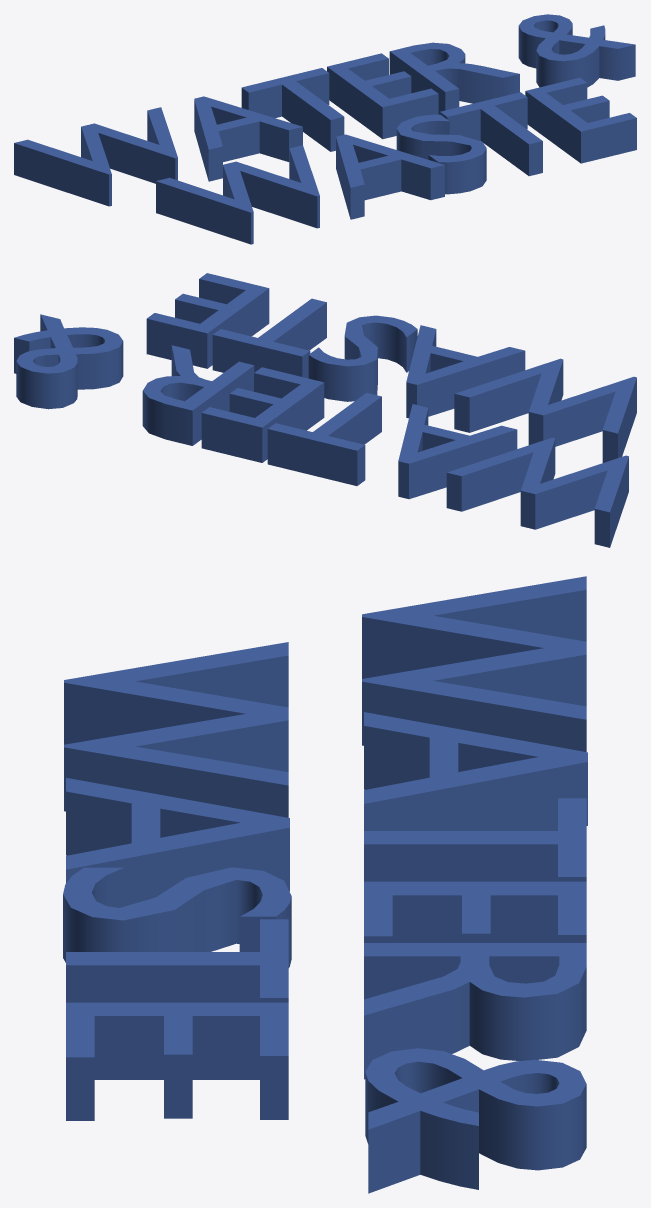
File: Water & Waste.fbx
3 renders of one model, top to bottom at view 1: azimuth 30°, elevation 25°; view 2: azimuth 150°, elevation 25°; view 3: azimuth 270°, elevation 25°, orthographic. The views are drawn at different scales.
Visible parts, largest first — view 1: Water & Waste; view 2: Water & Waste; view 3: Water & Waste.
Part boxes in pixels (box(x1,y1,x2,y2)): Water & Waste: box(14, 14, 636, 244); Water & Waste: box(14, 273, 636, 547); Water & Waste: box(63, 576, 587, 1193).
Bounding box in the file's own units: 139 × 7.49 × 55.72.
